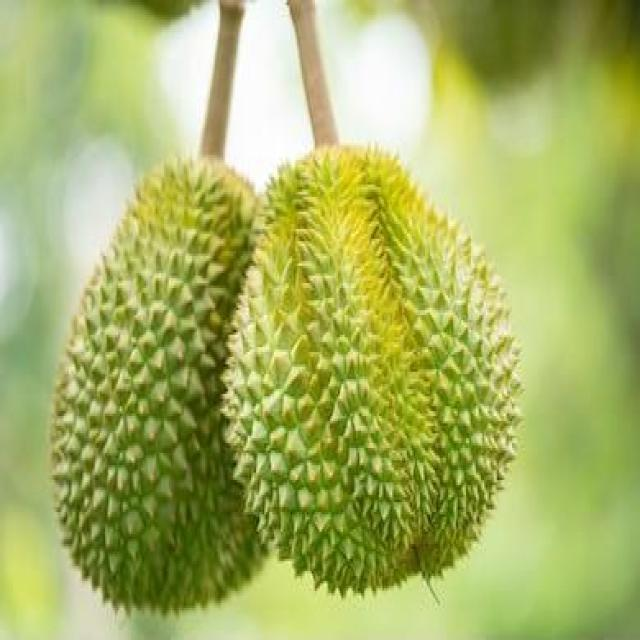immature: (224, 136, 528, 599), (49, 154, 278, 616)
